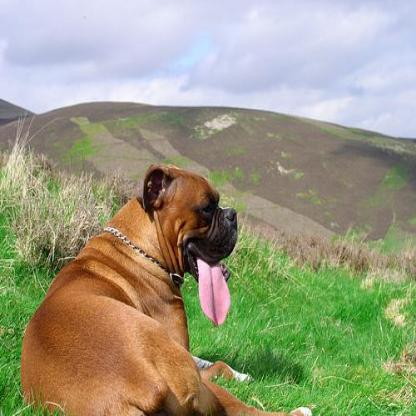boxer: (14, 152, 311, 414)
